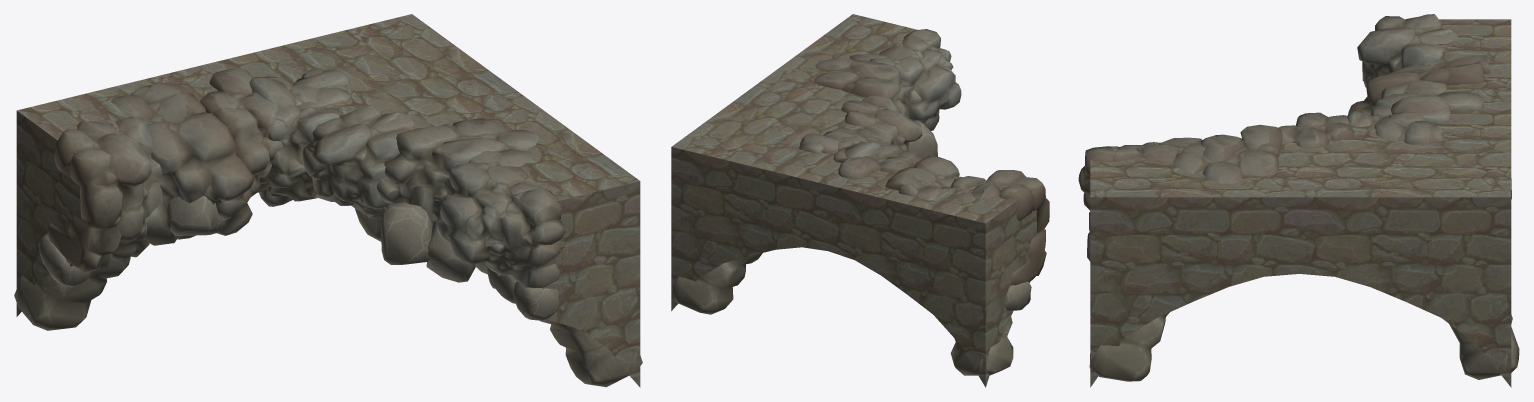
The model's file is SM_FW01_Ruins_Int_Ceiling_A_4x4_Brkn_02.fbx.
The picture shows the model from 3 angles, left to right: view 1: azimuth 30°, elevation 25°; view 2: azimuth 150°, elevation 25°; view 3: azimuth 270°, elevation 25°; orthographic projection. The views are drawn at different scales.
Parts seen in each view (by area): view 1: SM_FW01_Ruins_Int_Ceiling_A_4x4_Brkn_02_LOD0, SM_FW01_Ruins_Int_Ceiling_A_4x4_Brkn_02; view 2: SM_FW01_Ruins_Int_Ceiling_A_4x4_Brkn_02, SM_FW01_Ruins_Int_Ceiling_A_4x4_Brkn_02_LOD0; view 3: SM_FW01_Ruins_Int_Ceiling_A_4x4_Brkn_02, SM_FW01_Ruins_Int_Ceiling_A_4x4_Brkn_02_LOD0.
Part boxes in pixels (x1,y1,x2,y2): SM_FW01_Ruins_Int_Ceiling_A_4x4_Brkn_02_LOD0: [14, 68, 642, 387]; SM_FW01_Ruins_Int_Ceiling_A_4x4_Brkn_02: [16, 14, 640, 387]; SM_FW01_Ruins_Int_Ceiling_A_4x4_Brkn_02: [671, 14, 1037, 387]; SM_FW01_Ruins_Int_Ceiling_A_4x4_Brkn_02_LOD0: [671, 29, 1049, 375]; SM_FW01_Ruins_Int_Ceiling_A_4x4_Brkn_02: [1090, 19, 1511, 387]; SM_FW01_Ruins_Int_Ceiling_A_4x4_Brkn_02_LOD0: [1078, 14, 1519, 381].
Size of what is drawn, in the model's own units: 4.16 by 2.14 by 4.19.
